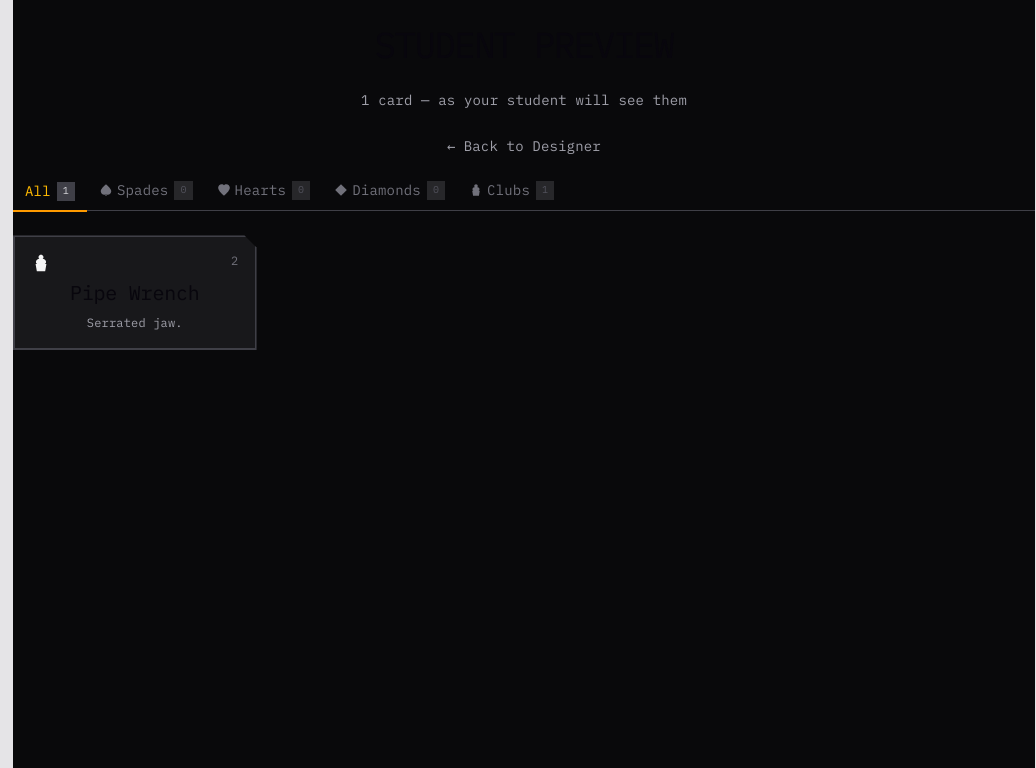
Showcase › renders empty state when suit has no cards
The image size is (1036, 768).
// Click spades tab — should show no cards
Click the tab "Spades 0" at (146, 191), box top-left (87, 172), bottom-right (205, 210)
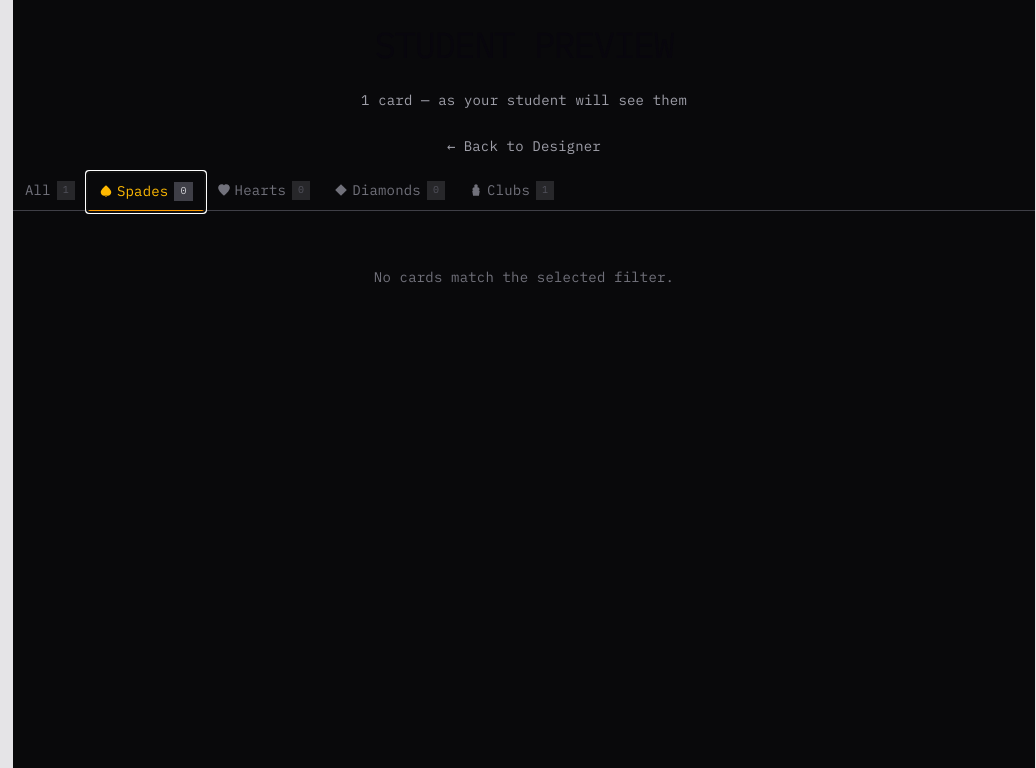
Expected: the text "No cards match the selected filter." is shown, top-left (374, 268), bottom-right (674, 286)
